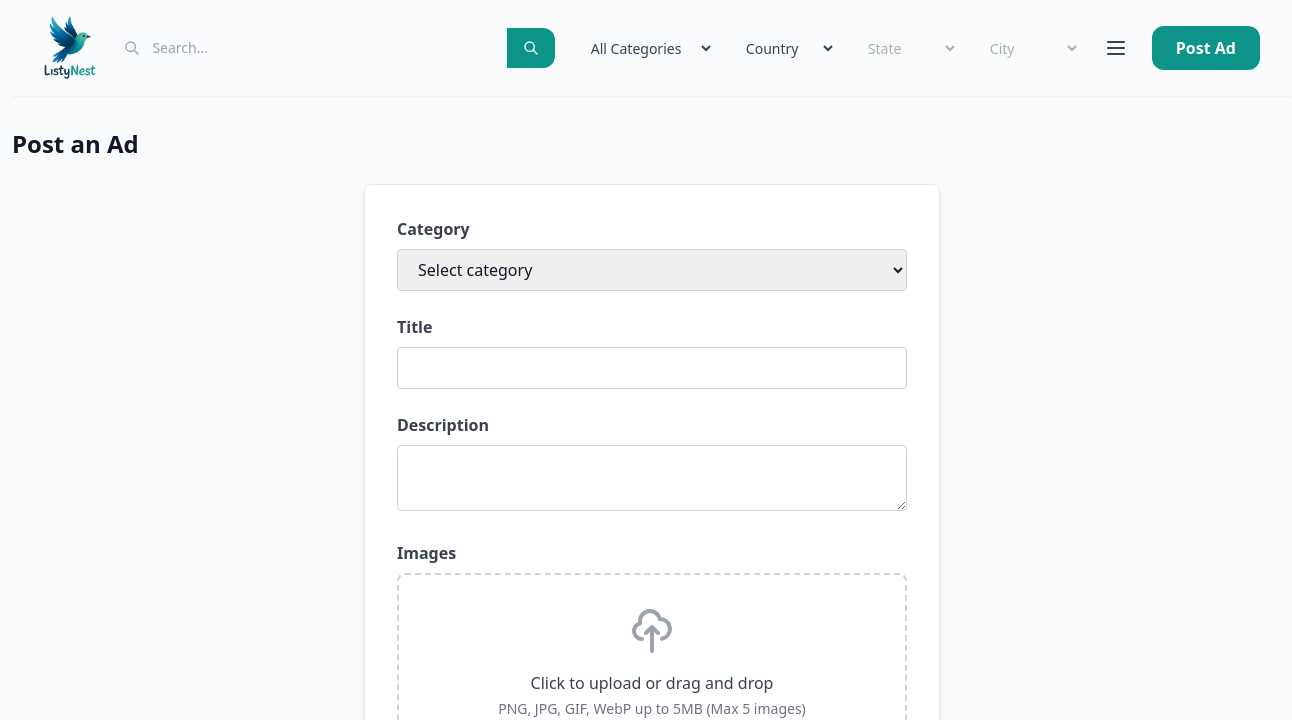
Test: PostAdPage (basic) › renders and shows dynamic fields when category selected
The image size is (1292, 720).
Select "TestCat" in the dropdown labelled "Category". click: point(652, 270)
box: [397,249,907,291]
(page scrolled)
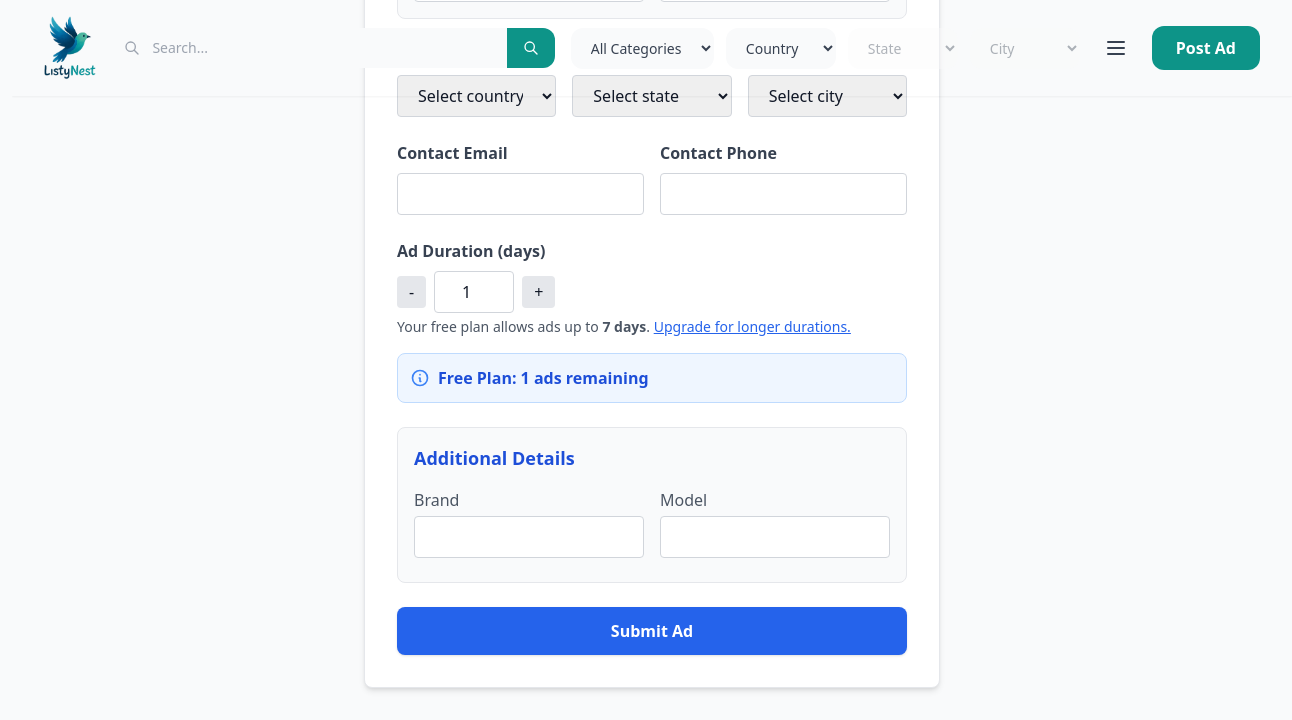
Check: the field labelled "Brand" is shown, box [414,516,644,558]
Check: the field labelled "Model" is shown, box [660,516,890,558]
